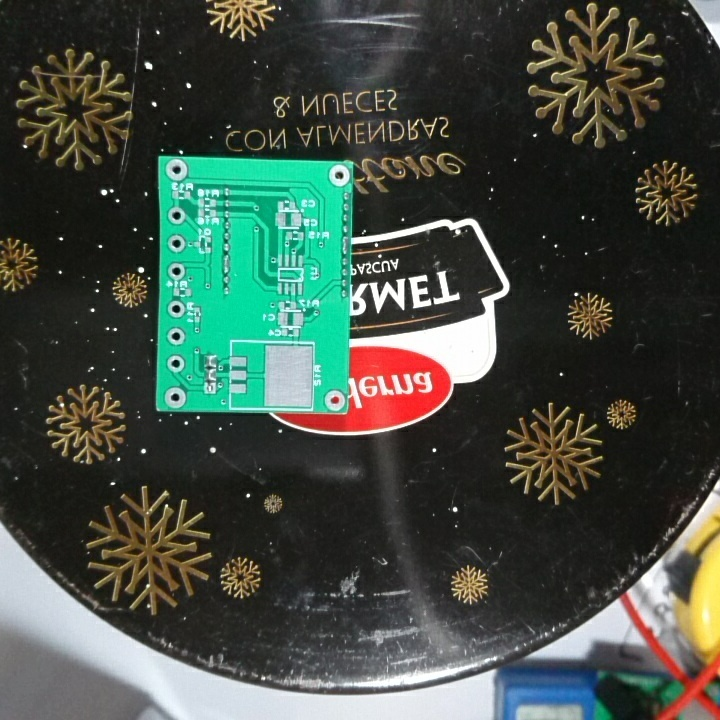F: (162, 158, 192, 183), (162, 385, 190, 411), (164, 352, 187, 377), (324, 388, 347, 413), (327, 163, 350, 187), (164, 326, 188, 349), (165, 298, 187, 321), (166, 232, 187, 256), (166, 204, 187, 227), (165, 258, 185, 281), (199, 378, 219, 398)
P: (220, 252, 235, 275), (339, 233, 353, 257)
